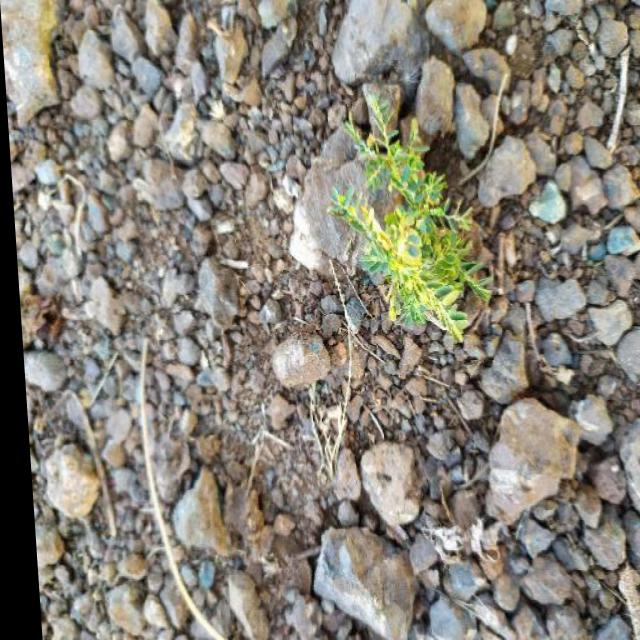weed: (318, 130, 504, 361)
